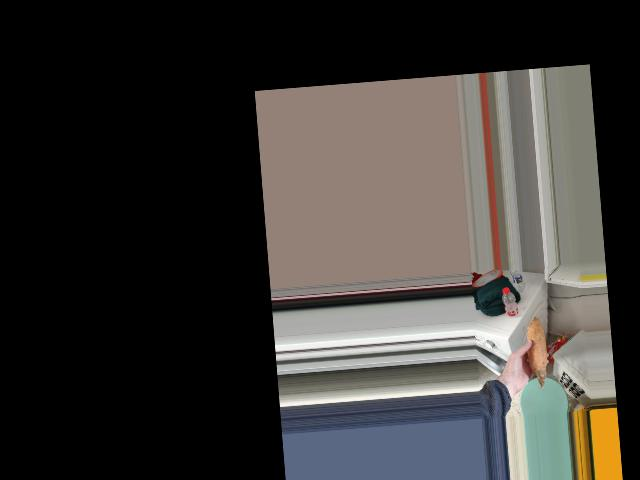sweet_potato: (526, 318, 547, 380)
